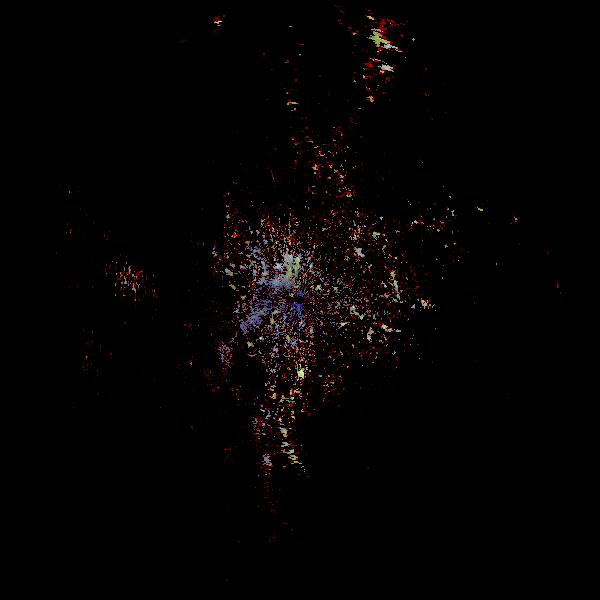roost: (296, 367, 311, 382)
